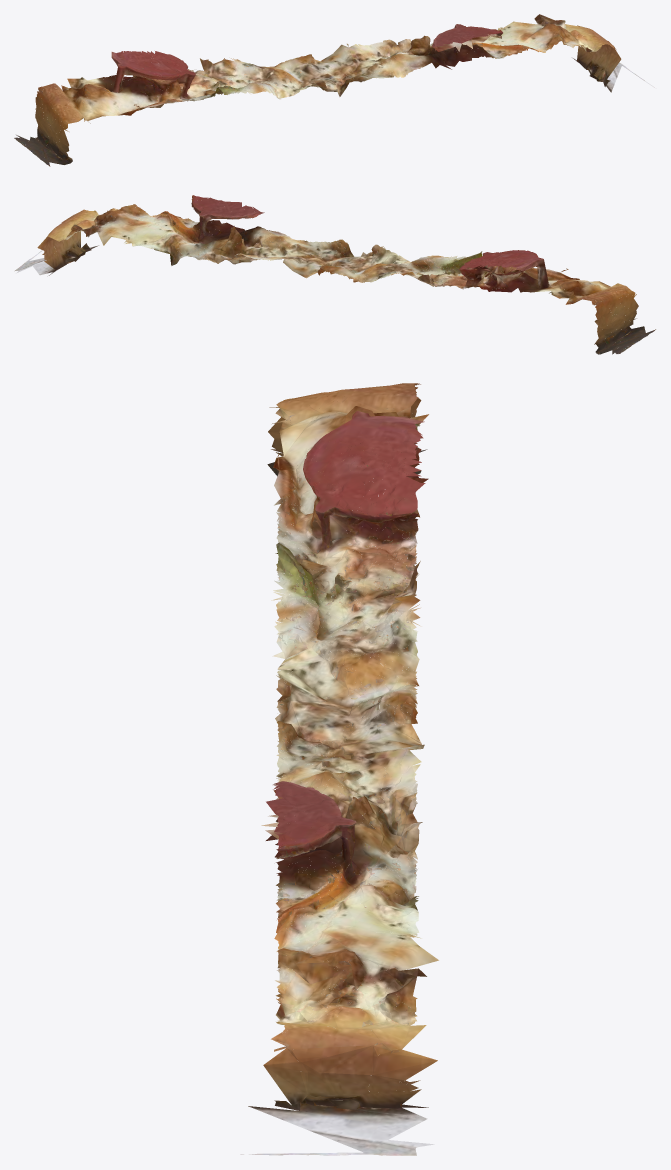
File: pizza_mid_draco.glb
3 views of the same model, one above another, from view 1: azimuth 30°, elevation 25°; view 2: azimuth 150°, elevation 25°; view 3: azimuth 270°, elevation 25° (orthographic). The views are drawn at different scales.
Parts seen in each view (by area): view 1: Object_8.001, Object_10.001, Object_11.001, Object_5.001, Object_12.001, Object_7.001, Object_2.001, Object_9.001, Object_6.001; view 2: Object_11.001, Object_8.001, Object_10.001, Object_5.001, Object_12.001, Object_7.001, Object_2.001, Object_6.001, Object_9.001; view 3: Object_11.001, Object_10.001, Object_5.001, Object_8.001, Object_12.001, Object_7.001, Object_6.001.
Boxes of the visible parts, x1,y1,x2,y2 form: Object_8.001: (15,51,188,166); Object_10.001: (137,40,400,107); Object_11.001: (129,14,595,100); Object_5.001: (295,19,654,94); Object_12.001: (360,25,573,77); Object_7.001: (35,26,586,129); Object_2.001: (35,89,67,148); Object_9.001: (14,38,622,158); Object_6.001: (179,54,311,101); Object_11.001: (65,205,525,291); Object_8.001: (443,250,655,354); Object_10.001: (244,237,537,289); Object_5.001: (14,204,403,275); Object_12.001: (64,196,299,264); Object_7.001: (107,195,619,333); Object_2.001: (594,290,635,327); Object_6.001: (322,256,489,279); Object_9.001: (29,210,638,353); Object_11.001: (271,439,438,1024); Object_10.001: (272,448,424,795); Object_5.001: (240,668,437,1155); Object_8.001: (267,383,428,566); Object_12.001: (266,763,422,1025); Object_7.001: (261,409,417,1004); Object_6.001: (276,516,417,709).
Bounding box in the file's own units: 0.3192 × 0.0638 × 0.0481.
Materials: 1 (1 with a texture image).
